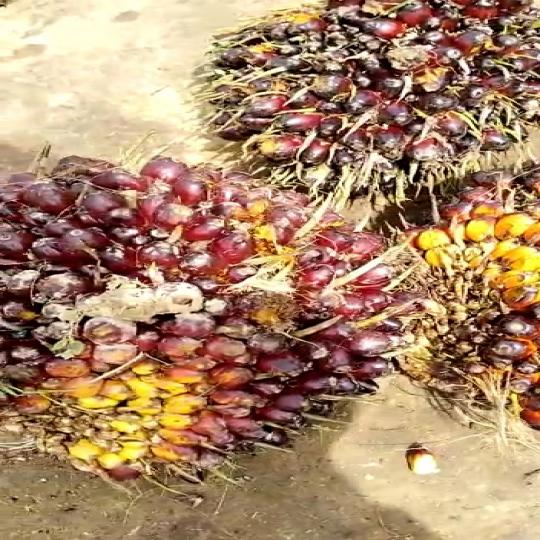kurang masak: (0, 146, 371, 491), (185, 0, 540, 166)
